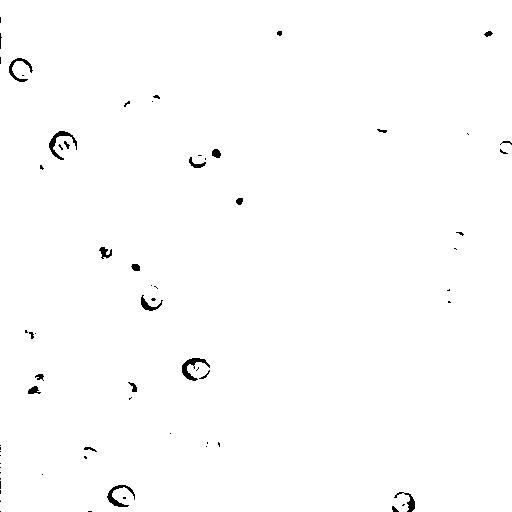micro-algae: (19, 136, 91, 204), (422, 455, 494, 512), (203, 313, 257, 367), (397, 109, 449, 160), (173, 350, 226, 400), (203, 138, 249, 184), (13, 359, 54, 398), (405, 313, 444, 348), (17, 380, 55, 411), (113, 92, 146, 127), (300, 478, 331, 511), (48, 130, 78, 162), (437, 285, 470, 314), (337, 367, 370, 395), (119, 250, 151, 278), (180, 356, 211, 383), (402, 241, 431, 269), (370, 114, 398, 140), (57, 210, 83, 238), (35, 454, 60, 483), (106, 485, 136, 509), (74, 496, 118, 512), (267, 20, 294, 45), (140, 283, 164, 311), (8, 58, 34, 83), (389, 490, 417, 512), (260, 103, 285, 127), (18, 323, 42, 348), (26, 156, 51, 179), (446, 230, 471, 252), (476, 25, 499, 48), (0, 25, 17, 55), (116, 380, 140, 401), (142, 443, 164, 465), (96, 238, 115, 261), (202, 437, 223, 457), (78, 444, 100, 463), (206, 143, 227, 162), (188, 149, 207, 169), (464, 117, 481, 137), (167, 422, 184, 442), (27, 0, 54, 12), (26, 382, 47, 397), (231, 195, 250, 207), (447, 77, 461, 92), (499, 139, 512, 155), (127, 0, 154, 7)
